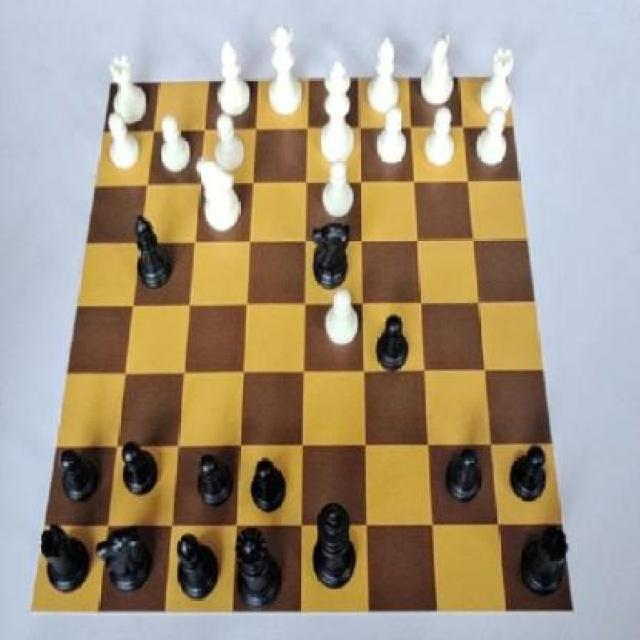bishop: (128, 215, 178, 303), (177, 528, 223, 612)
black-bishop: (306, 502, 362, 593)
black-king: (94, 521, 158, 604), (308, 217, 355, 301)
black-knight: (55, 446, 107, 516), (246, 451, 295, 520), (443, 438, 489, 510), (118, 440, 164, 507), (192, 448, 236, 518), (371, 308, 413, 379), (506, 443, 549, 512)
black-pawn: (231, 526, 290, 614)
black-queen: (37, 525, 95, 609), (517, 520, 574, 601)
black-rook: (212, 39, 257, 122), (364, 31, 406, 114)
white-bishop: (314, 55, 361, 168)
white-king: (194, 155, 244, 237), (420, 29, 462, 113)
white-knight: (98, 110, 147, 174), (471, 108, 515, 174), (320, 283, 362, 352), (315, 159, 360, 223), (154, 116, 201, 176), (372, 103, 413, 169), (420, 102, 458, 173), (208, 112, 247, 177)
white-pawn: (263, 18, 308, 124)
white-queen: (106, 49, 154, 127), (480, 43, 518, 122)
